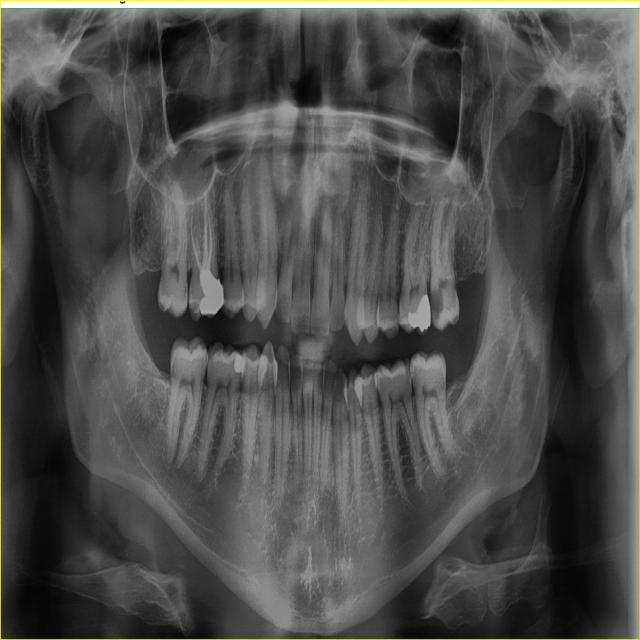Caries: (430, 288, 443, 325), (223, 282, 229, 301), (377, 375, 383, 391), (189, 282, 193, 301), (183, 281, 186, 302)
Filling: (199, 269, 223, 316), (408, 294, 431, 331), (233, 354, 246, 373)
Periapical lesion: (190, 465, 226, 491)
Root Canal Treatment: (190, 203, 202, 272), (202, 196, 208, 269), (205, 210, 212, 269)
